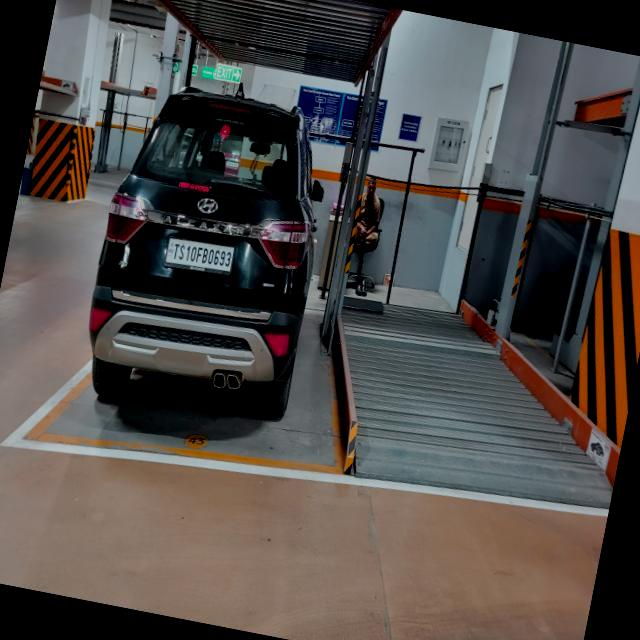car: (51, 91, 366, 494)
free: (317, 228, 632, 522)
